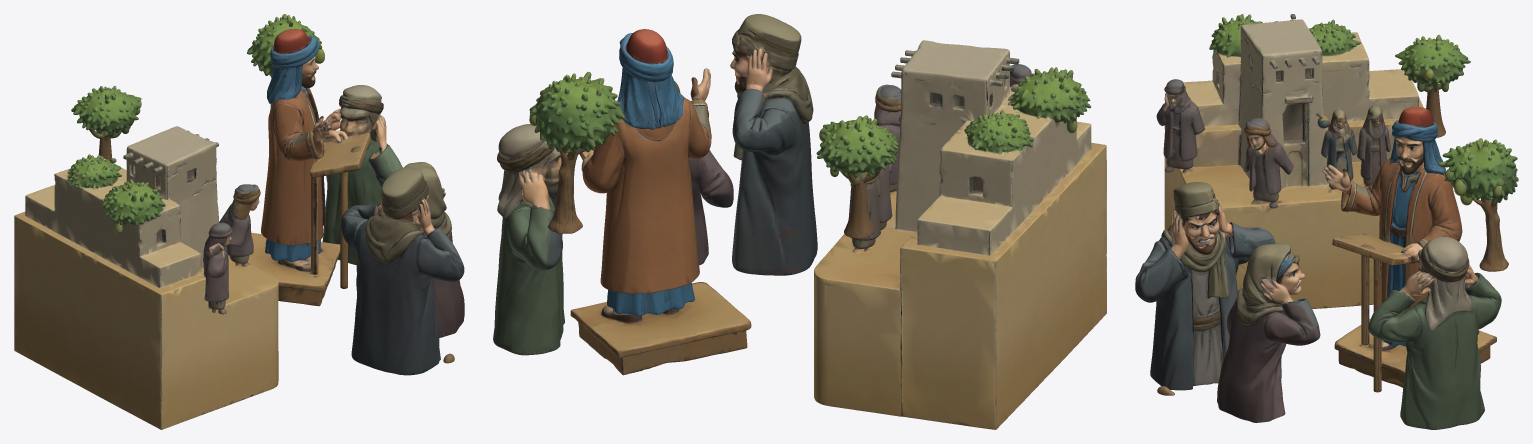
The model's file is page-02.glb.
The picture shows the model from 3 angles, left to right: view 1: azimuth 30°, elevation 25°; view 2: azimuth 150°, elevation 25°; view 3: azimuth 270°, elevation 25°; orthographic projection. The views are drawn at different scales.
Visible parts, largest first — view 1: tripo_node_8ecd39cb-dddc-4cc8-9a76-e1b081e75bea; view 2: tripo_node_8ecd39cb-dddc-4cc8-9a76-e1b081e75bea; view 3: tripo_node_8ecd39cb-dddc-4cc8-9a76-e1b081e75bea.
Part boxes in pixels (box(x1,y1,x2,y2)): tripo_node_8ecd39cb-dddc-4cc8-9a76-e1b081e75bea: box(14, 14, 464, 429); tripo_node_8ecd39cb-dddc-4cc8-9a76-e1b081e75bea: box(493, 14, 1106, 429); tripo_node_8ecd39cb-dddc-4cc8-9a76-e1b081e75bea: box(1135, 14, 1518, 429).
Bounding box in the file's own units: 1 × 0.6167 × 0.8072.
1 material, 1 textured.
